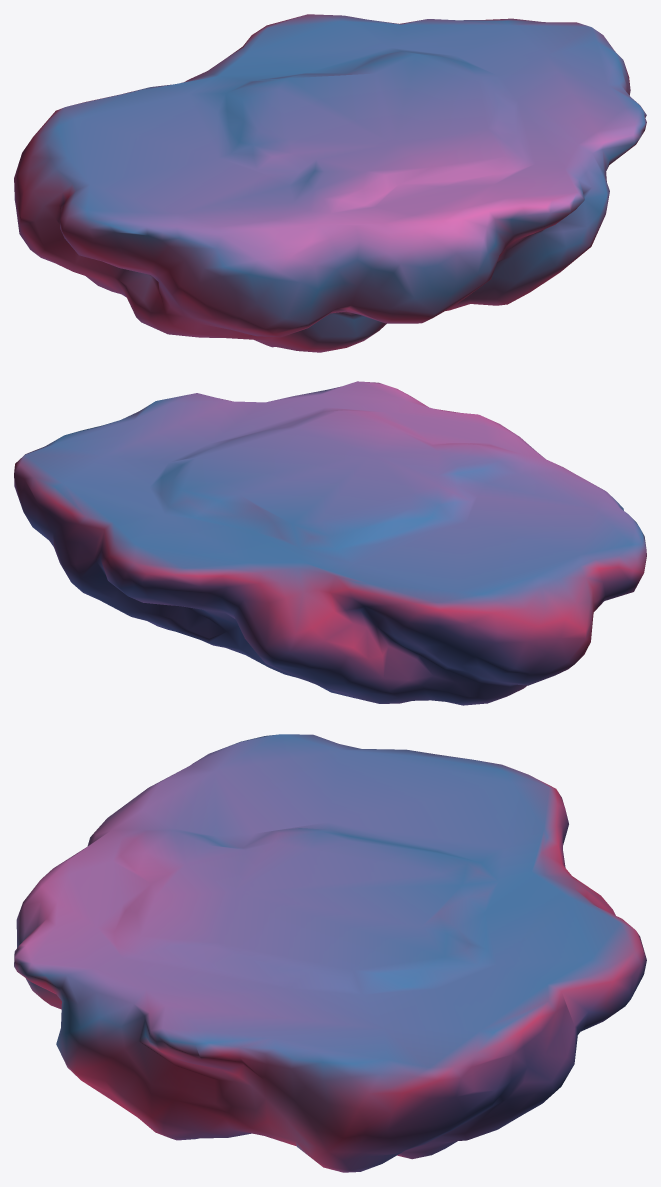
Rendered from Platform_Rock_01.fbx.
3 renders of one model, top to bottom at view 1: azimuth 30°, elevation 25°; view 2: azimuth 150°, elevation 25°; view 3: azimuth 270°, elevation 25°, orthographic. The views are drawn at different scales.
Parts seen in each view (by area): view 1: transform7; view 2: transform7; view 3: transform7.
Part boxes in pixels (<box>): transform7: <box>14,14,646,352</box>; transform7: <box>14,381,646,705</box>; transform7: <box>14,734,646,1172</box>.
Size of the model in its own units: 354 by 119 by 271.
